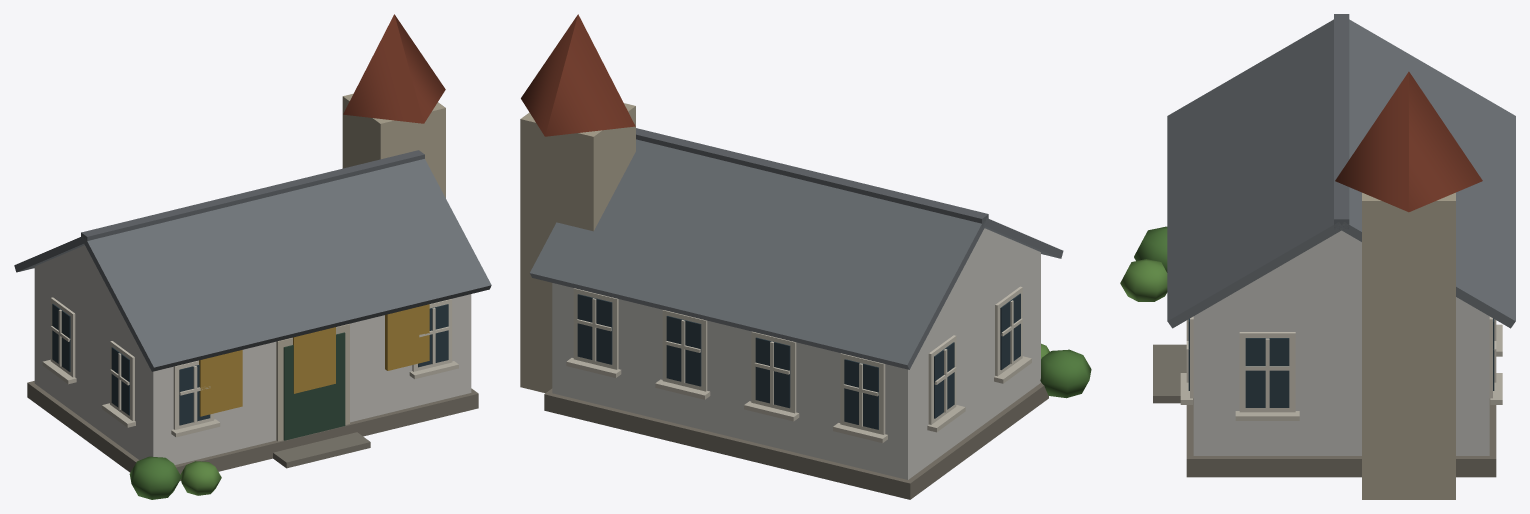
The model's file is procedural_scriptorium@6.glb.
3 renders of one model, left to right at view 1: azimuth 30°, elevation 25°; view 2: azimuth 150°, elevation 25°; view 3: azimuth 270°, elevation 25°, orthographic. The views are drawn at different scales.
Parts seen in each view (by area): view 1: part_0; view 2: part_0; view 3: part_0.
Boxes of the visible parts, x1,y1,x2,y2 form: part_0: (14, 14, 491, 499); part_0: (520, 14, 1091, 499); part_0: (1120, 14, 1515, 499).
Size of the model in its own units: 8.8 by 6.75 by 5.88.
